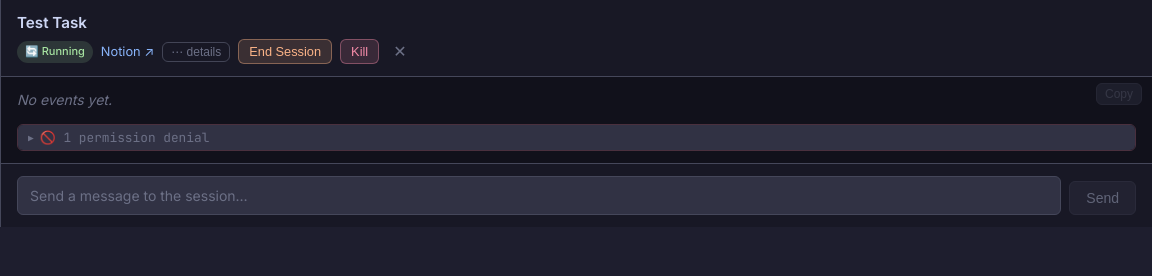
SessionDetail › inline denial section is collapsed by default and expands on click
Expected: the text "Denied: Bash" is not shown
What coordinates should you click on to do the following:
click the button with aria-label "Toggle permission denials"
I would click on:
 (140, 137)
Its box is left=18, top=125, right=1135, bottom=150.
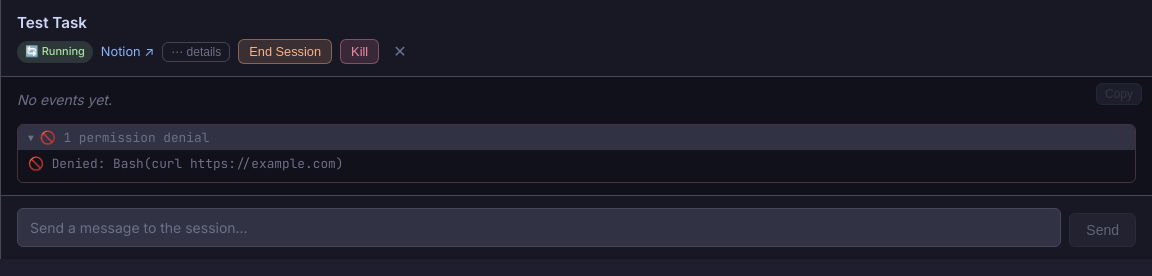
Expected: the text "🚫 Denied: Bash(curl https://example.com)" is shown, left=28, top=155, right=344, bottom=172
